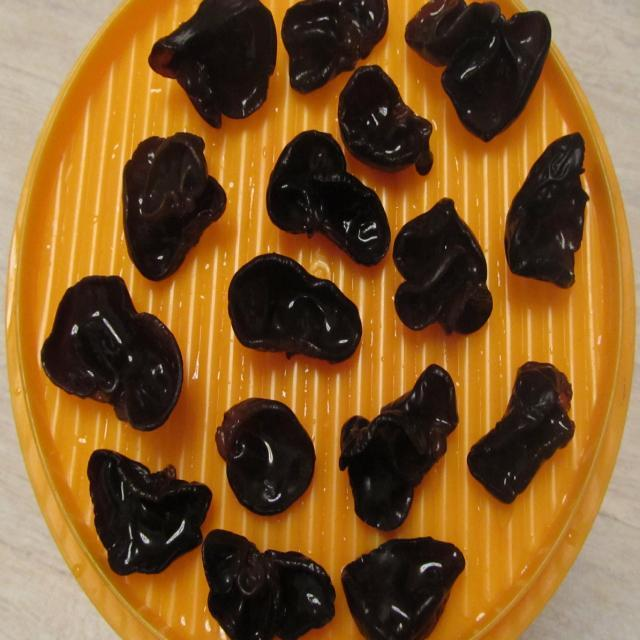Auricularia auricula: (48, 276, 185, 429), (405, 0, 550, 141), (337, 366, 458, 532), (87, 443, 215, 579), (265, 130, 390, 269), (119, 126, 224, 283), (151, 0, 276, 128), (225, 252, 364, 364), (469, 359, 574, 502), (203, 529, 336, 640), (394, 198, 497, 340), (505, 136, 590, 285), (217, 400, 318, 521), (346, 539, 466, 640), (339, 62, 436, 176), (280, 0, 391, 91)
